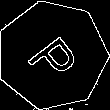P_NE: (20, 25, 84, 85)
